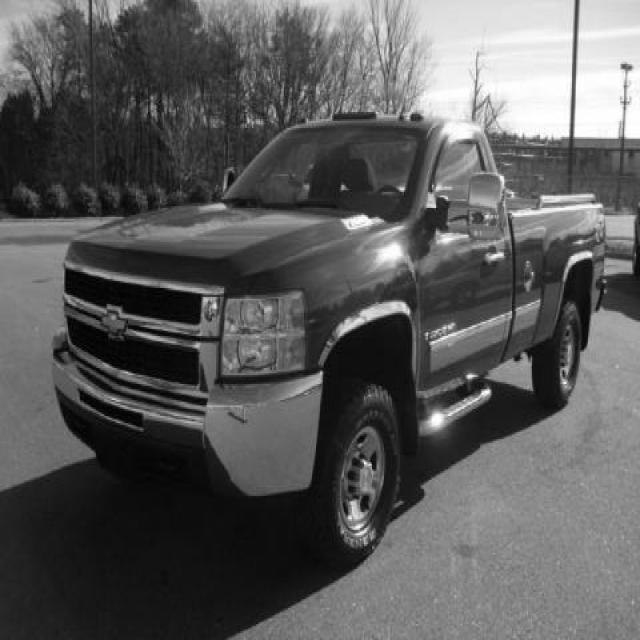car: (51, 110, 606, 566)
